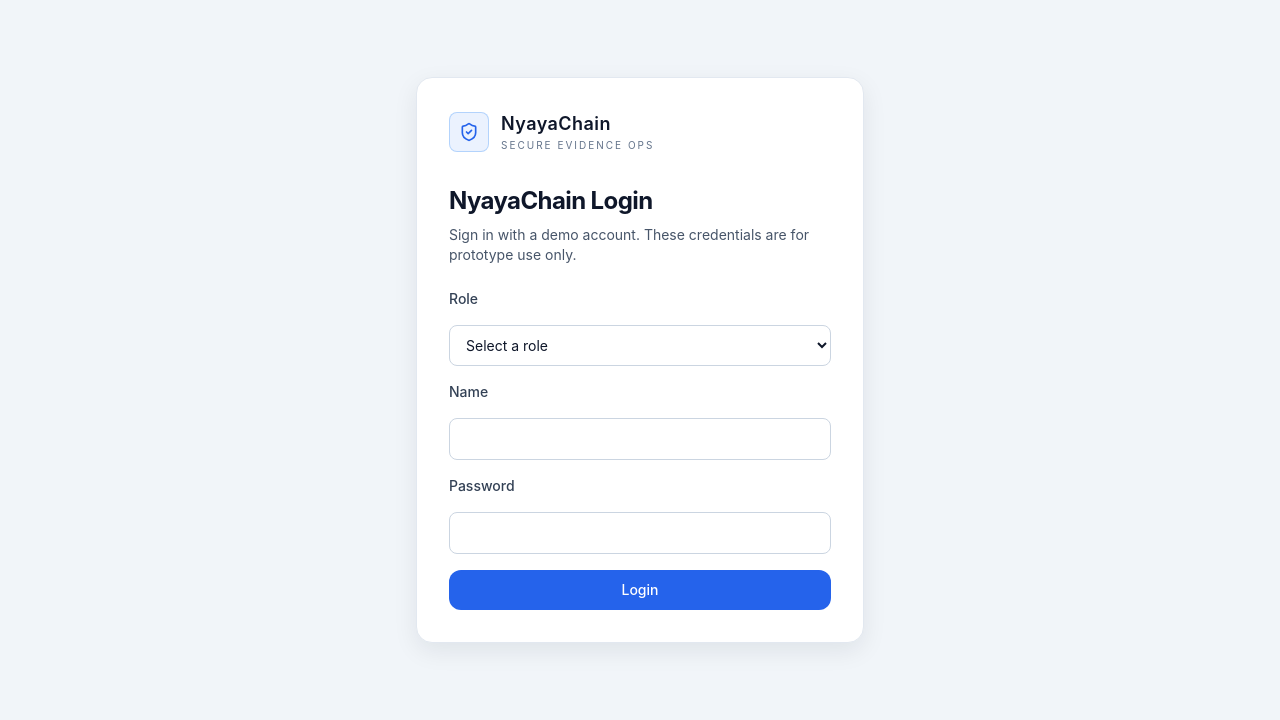
Test: NyayaChain demo authentication › logs in as Ravi Kumar with the investigating_officer role
The width and height of the screenshot is (1280, 720).
Select "Investigating Officer" in the dropdown labelled "Role": (640, 346) [449,325,831,366]
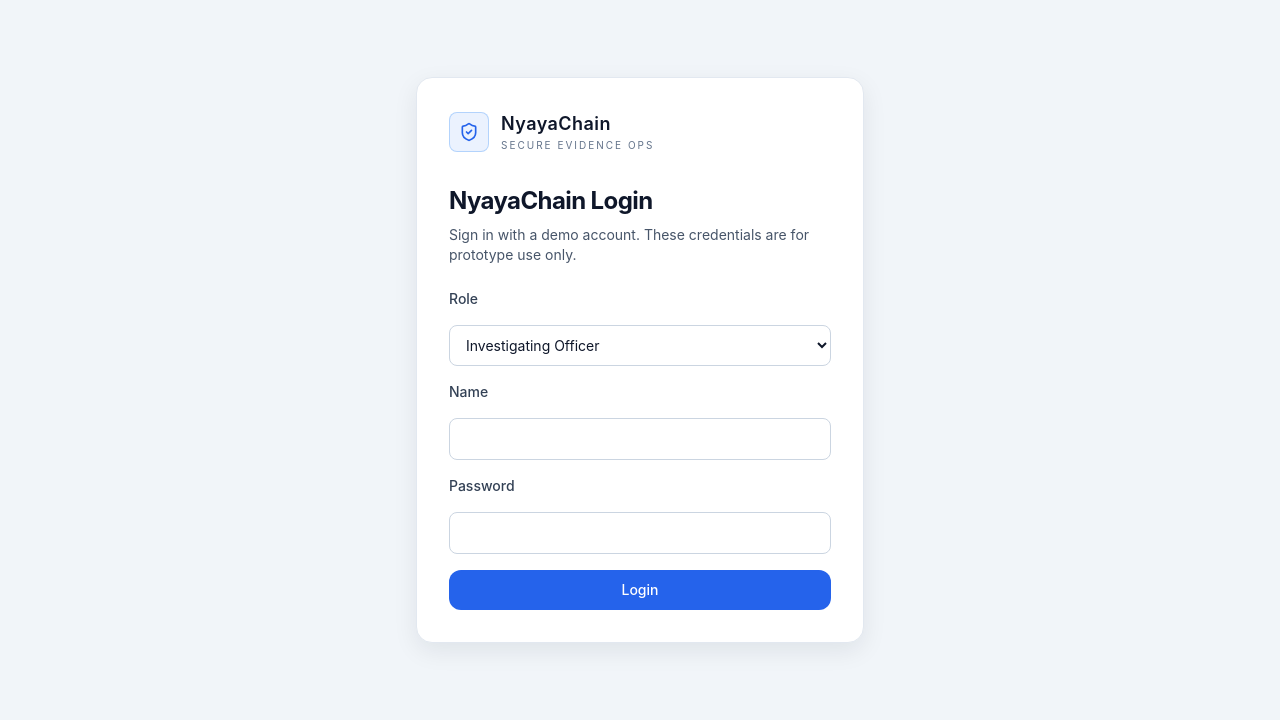
In the field labelled "Name": (640, 439) [449,418,831,460], type "Ravi Kumar"
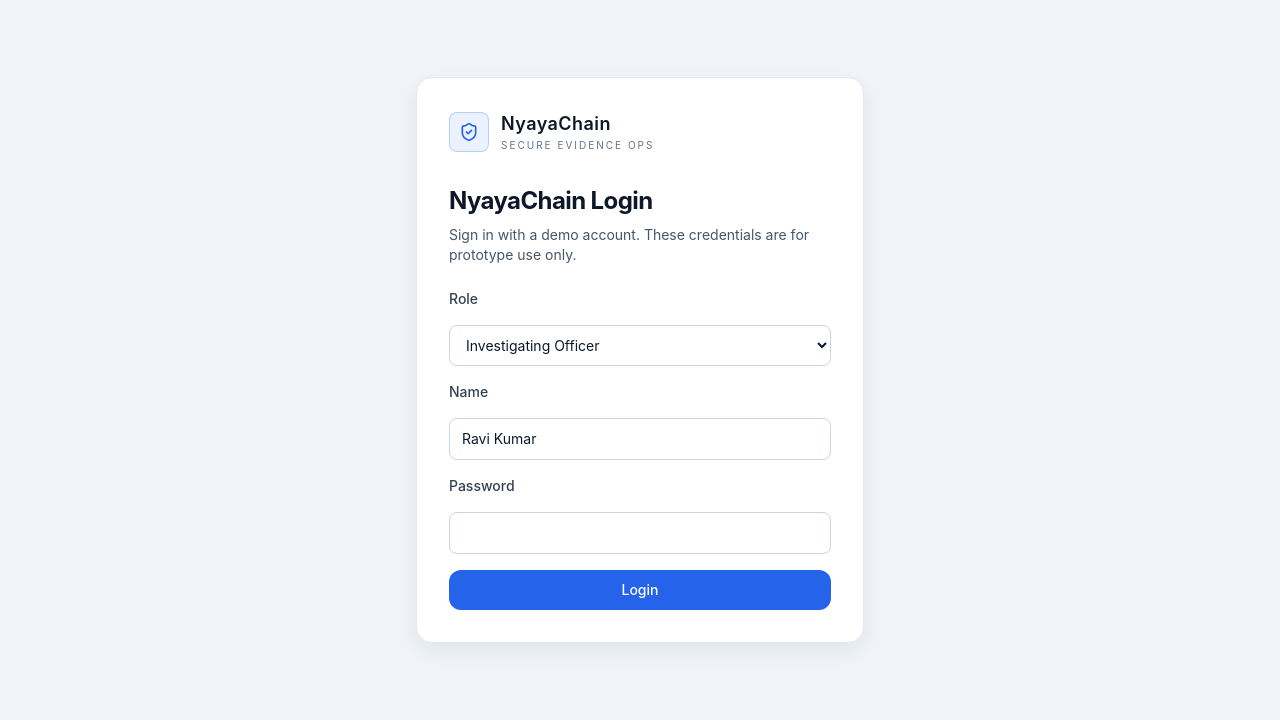
In the password field labelled "Password": (640, 533) [449,512,831,554], type "Officer@123"
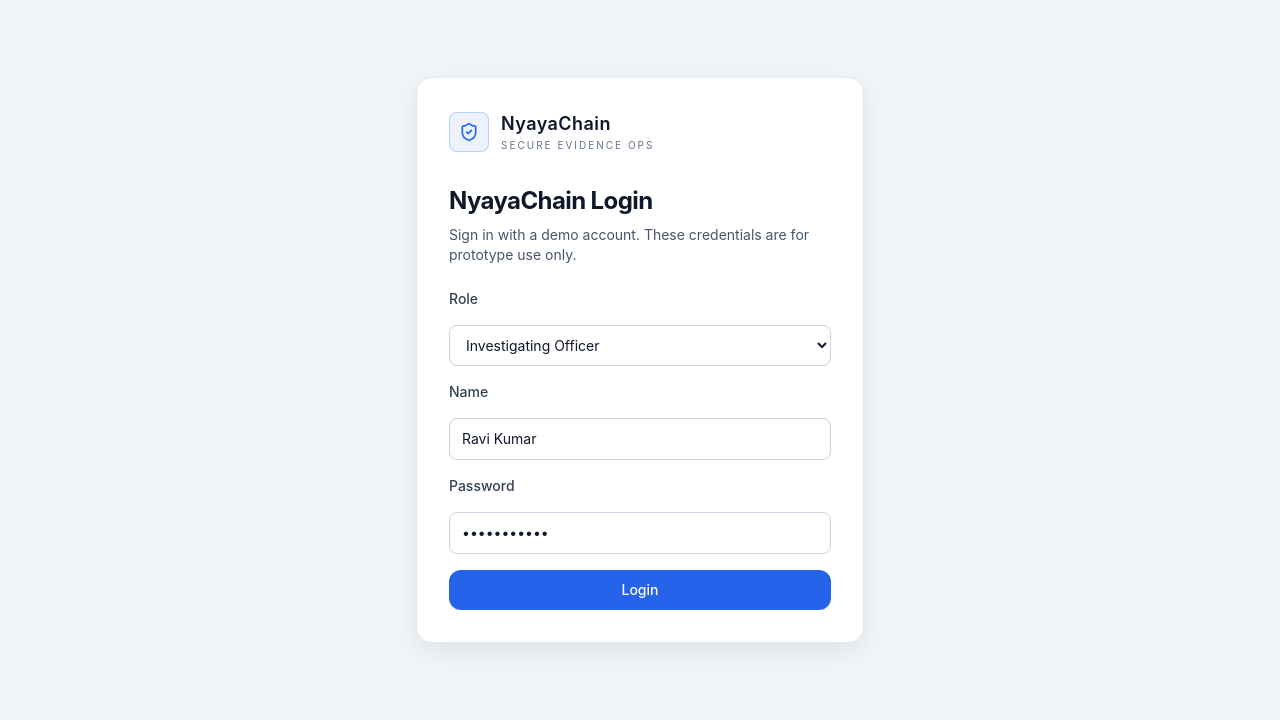
Click the button "Login": (640, 590) [449,570,831,610]
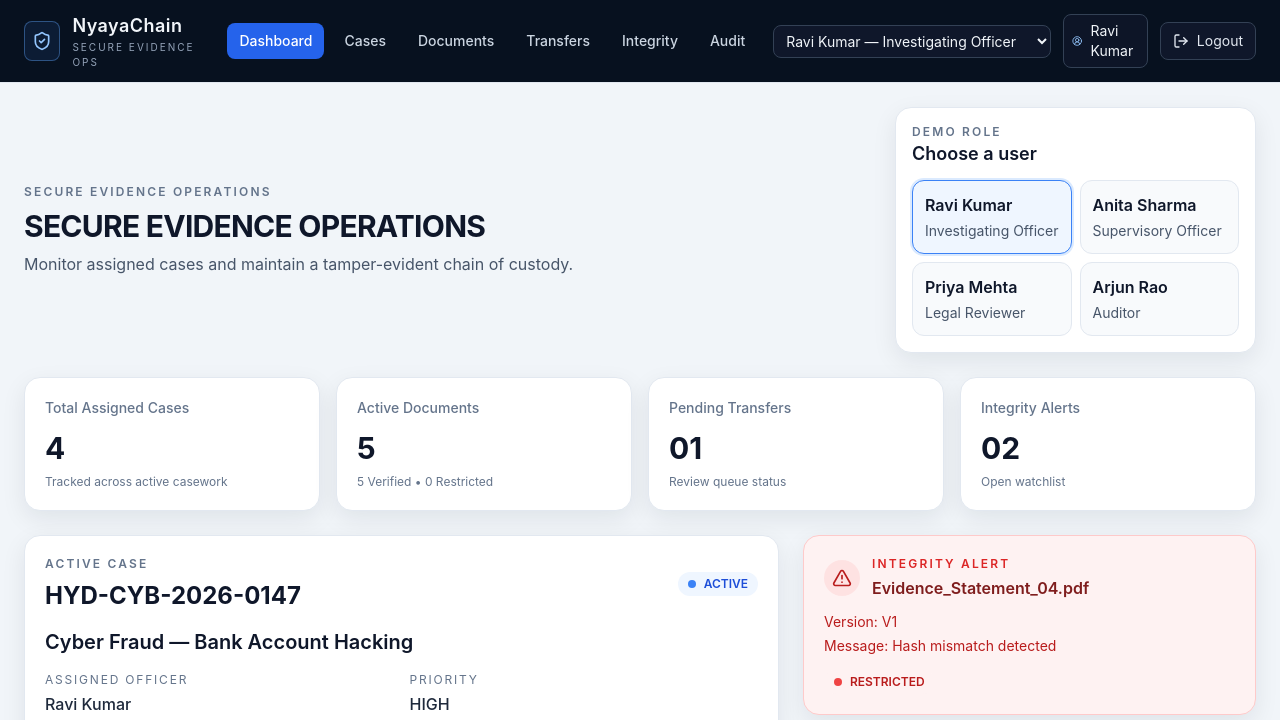
Expected: the heading "SECURE EVIDENCE OPERATIONS" is shown, [24,208,485,244]
Expected: the text "Ravi Kumar" in the row of "Secure Evidence Ops" is shown, [1091,22,1133,59]
